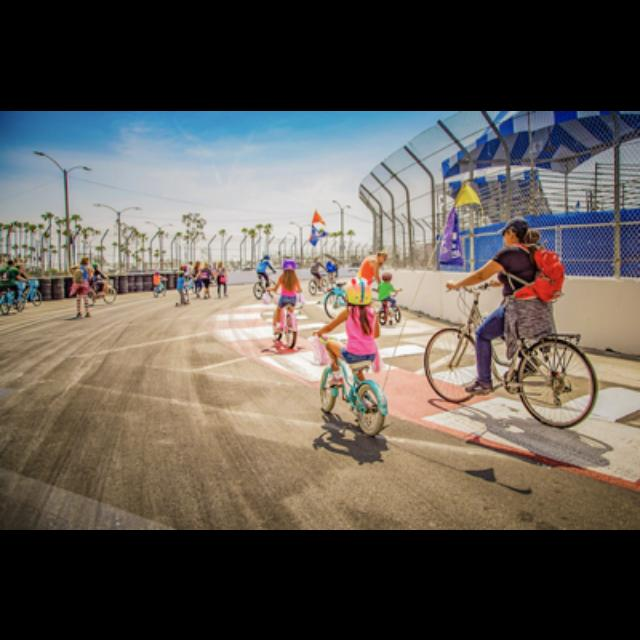With Helmet: (336, 275, 376, 307), (278, 253, 298, 274)
Without Helmet: (499, 210, 536, 248)
